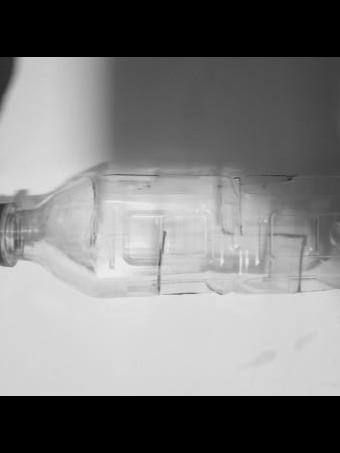bottle: (0, 158, 340, 297)
